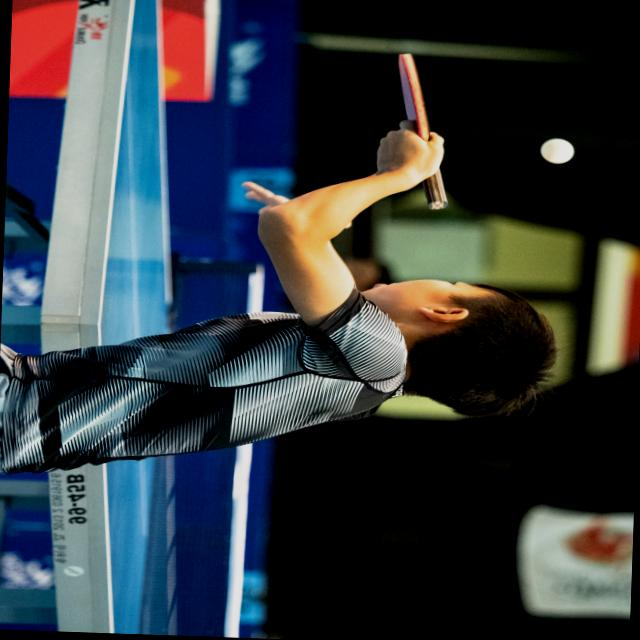TT Net: (128, 251, 286, 640)
TT Racket: (381, 48, 457, 212)
TT Table: (91, 0, 181, 635)
